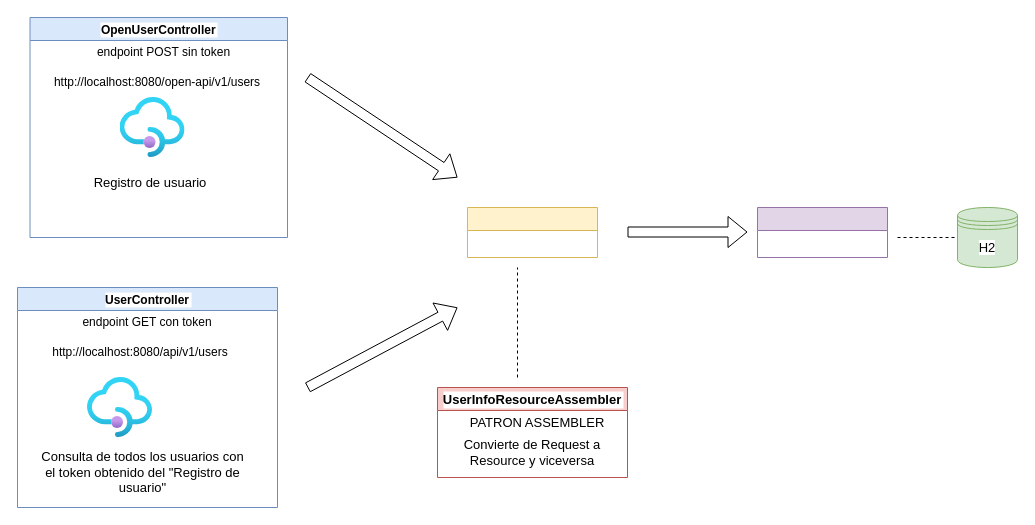
This 1035x525 diagram has some shape labels left out. Here are the shapes that lost their labels. From the top down, the centre of each, then its label:
[532,232]: UserService
[822,232]: UserDao
